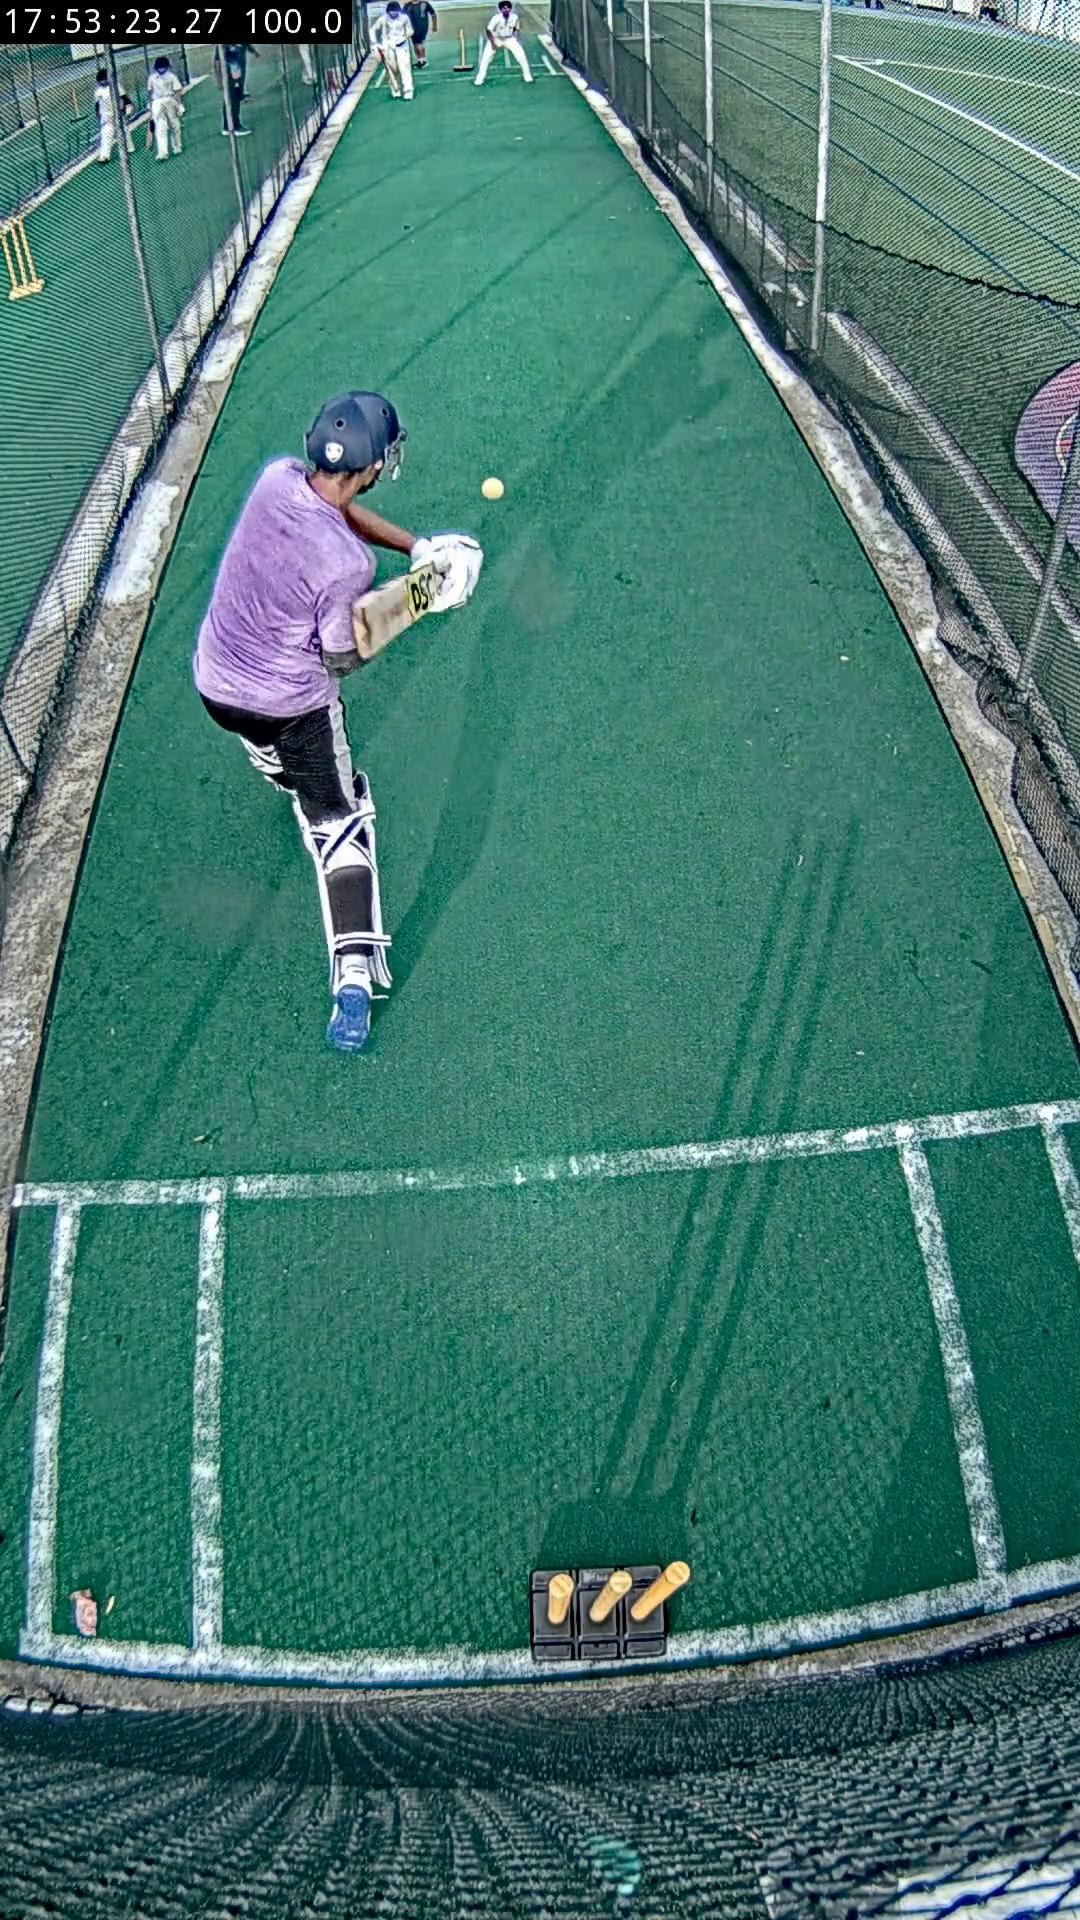ball: (480, 476, 506, 498)
bat: (352, 566, 435, 659)
gloves: (409, 533, 484, 609)
helmet: (303, 390, 401, 472)
stumps: (529, 1560, 690, 1665)
